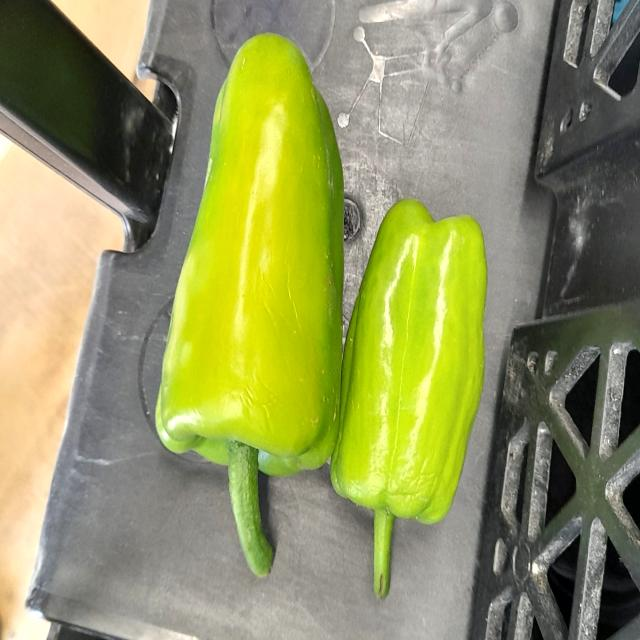bell pepper: (158, 32, 344, 572), (328, 179, 498, 594)
